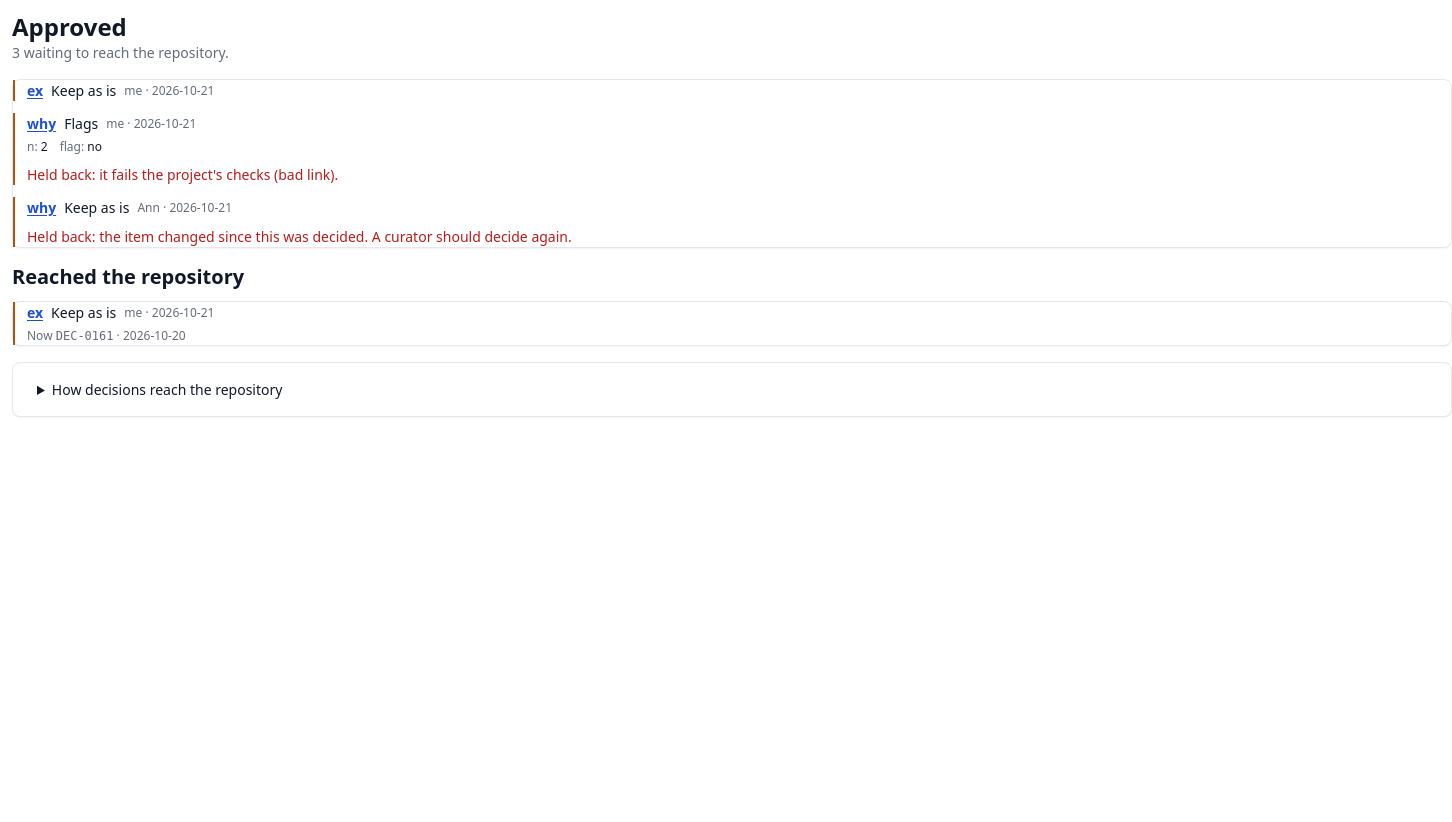
it: approved page › lists approved decisions, flags held ones, says how they reach the repository, and edits nothing
expect the text "Keep as is" is shown 2 times: met, box [51,80,116,101]; [64,197,129,218]
expect the element showing "n: 2" is shown: met, box [27,138,48,156]
Click the heading "How decisions reach the repository" at (167, 390), box [52,380,282,399]
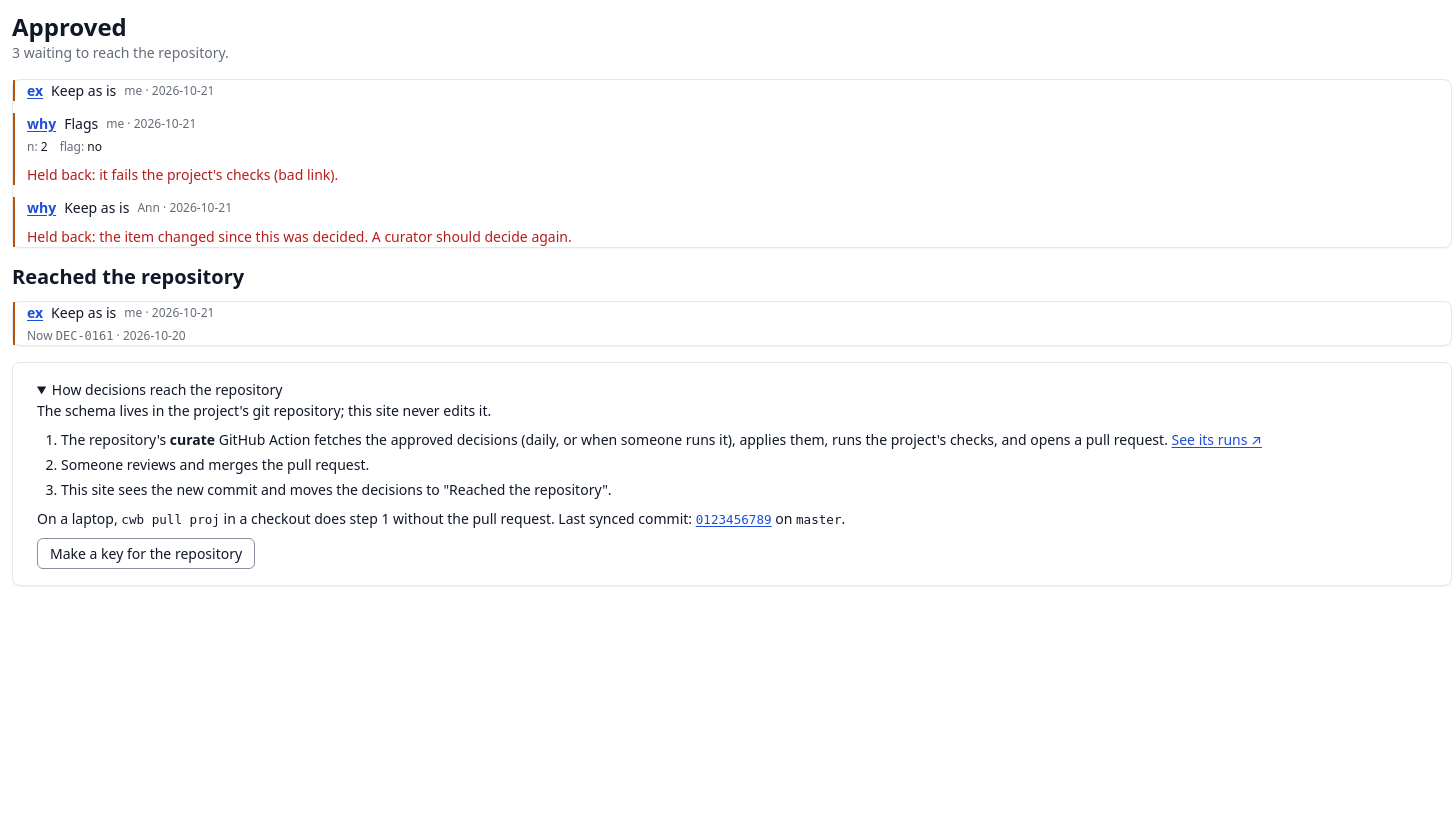
expect the text "DEC-0161" is shown: met, box [56,329,114,343]
Click the button "Make a key for the repository" at (146, 553), box [37,538,255,569]
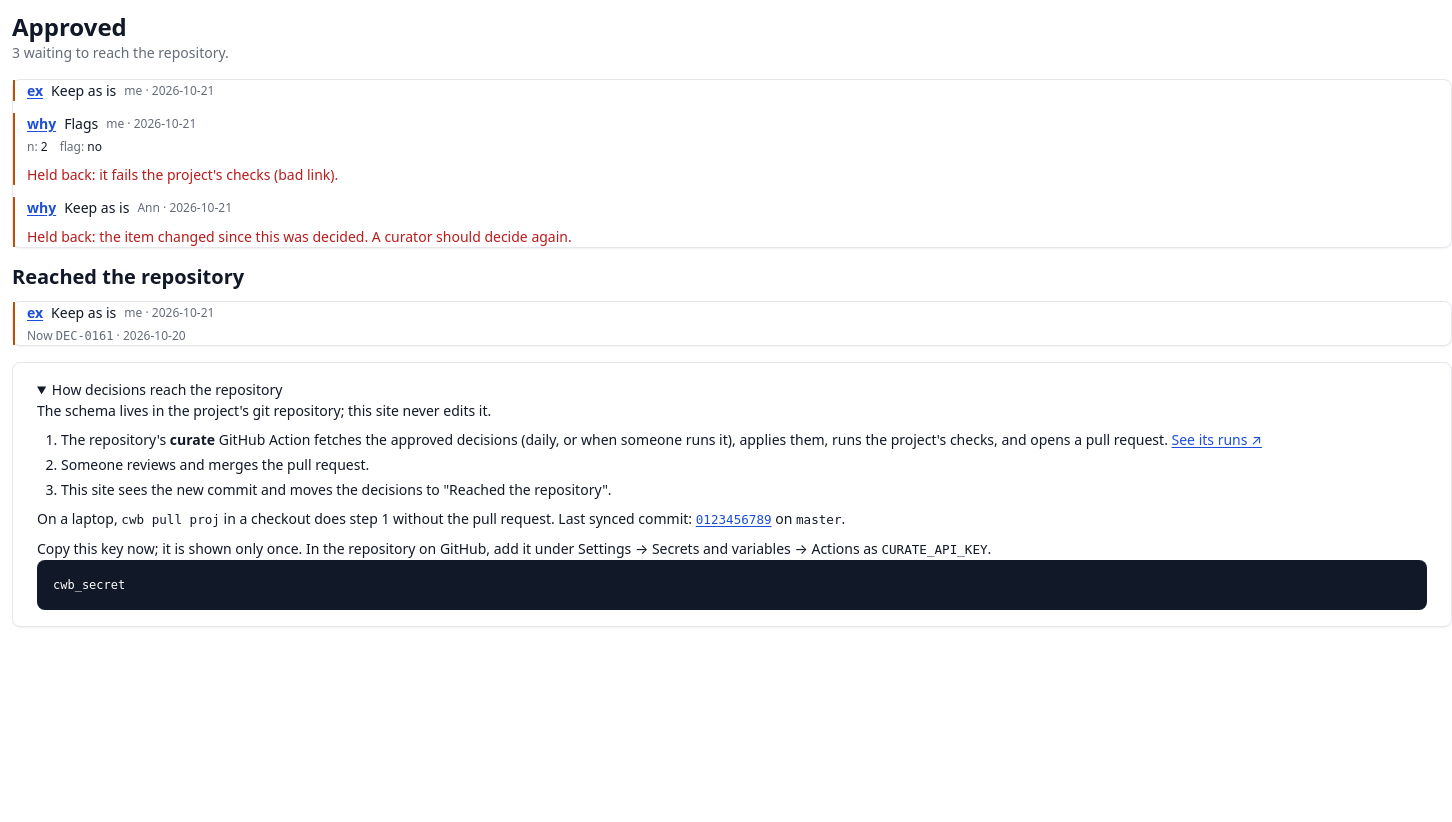
expect the text "cwb_secret" is shown: met, box [37,560,1427,610]
expect the element with test id "repo-key" shows "CURATE_API_KEY": met, box [882,542,988,557]
